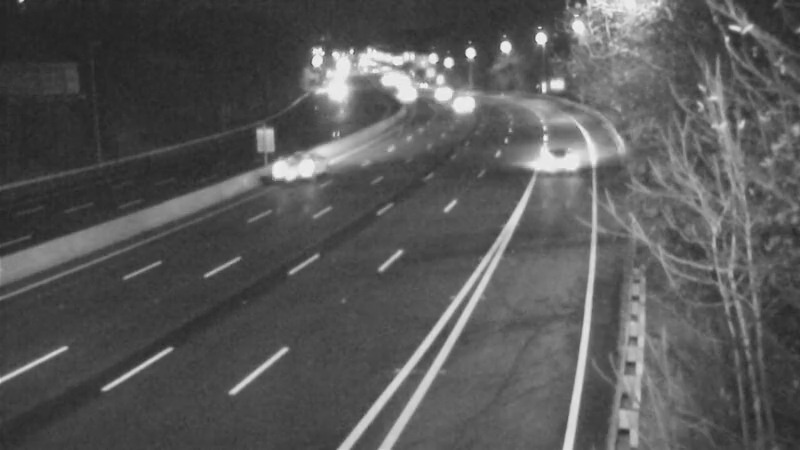vehicle: (254, 130, 334, 210), (415, 66, 465, 116), (378, 75, 428, 125), (434, 80, 484, 130), (533, 122, 583, 172)
